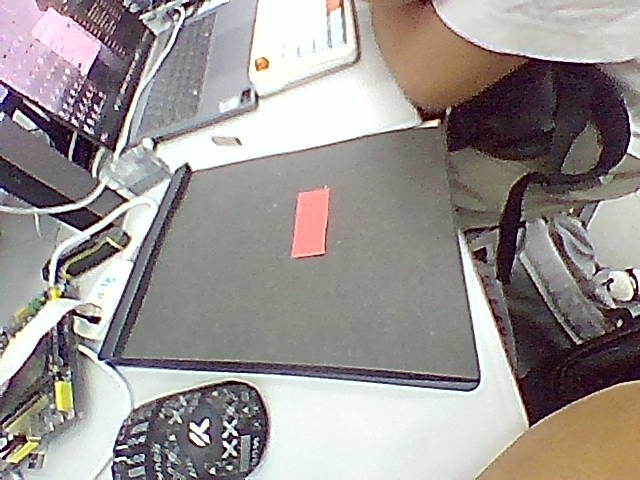card: (291, 186, 330, 256)
